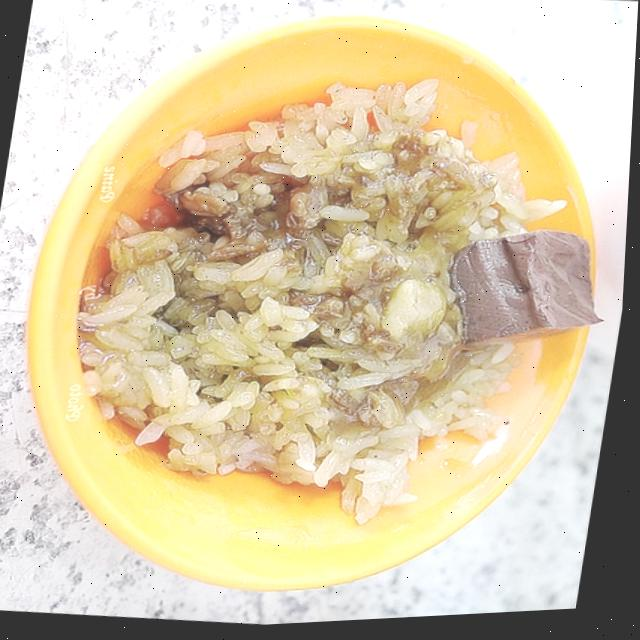米饭主食: (37, 22, 632, 598)
